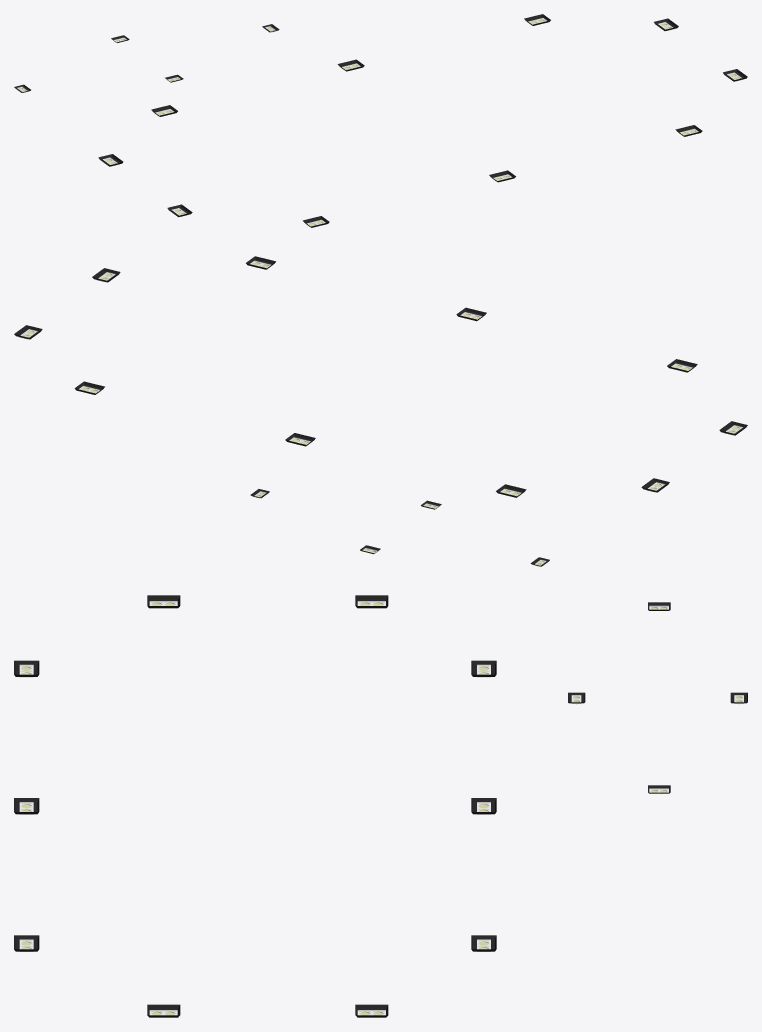
Rendered from CR04_Spot_Light.FBX.
3 renders of one model, top to bottom at view 1: azimuth 30°, elevation 25°; view 2: azimuth 150°, elevation 25°; view 3: azimuth 270°, elevation 25°, orthographic. The views are drawn at different scales.
Parts seen in each view (by area): view 1: CR04_Spot_Light; view 2: CR04_Spot_Light; view 3: CR04_Spot_Light.
Boxes of the visible parts, x1,y1,x2,y2 form: CR04_Spot_Light: (14,14,747,227); CR04_Spot_Light: (14,256,747,566); CR04_Spot_Light: (14,595,747,1017).
Bounding box in the file's own units: 7622 × 40.21 × 5632.
